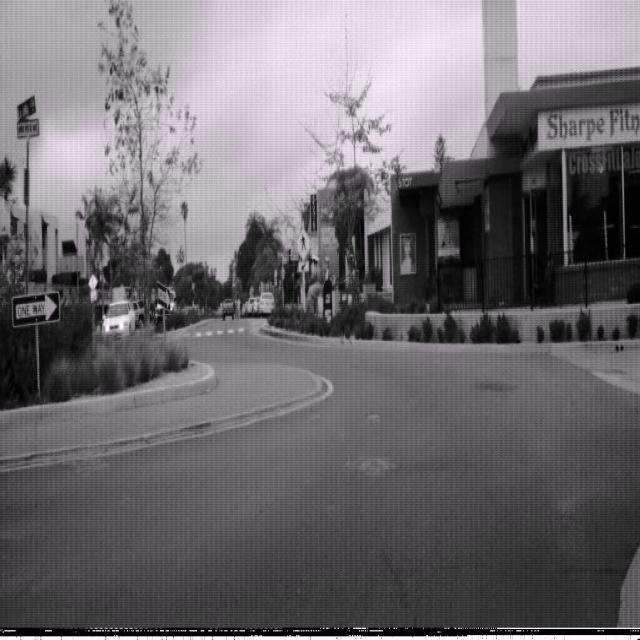pedestrianCrossing: (294, 227, 312, 259)
